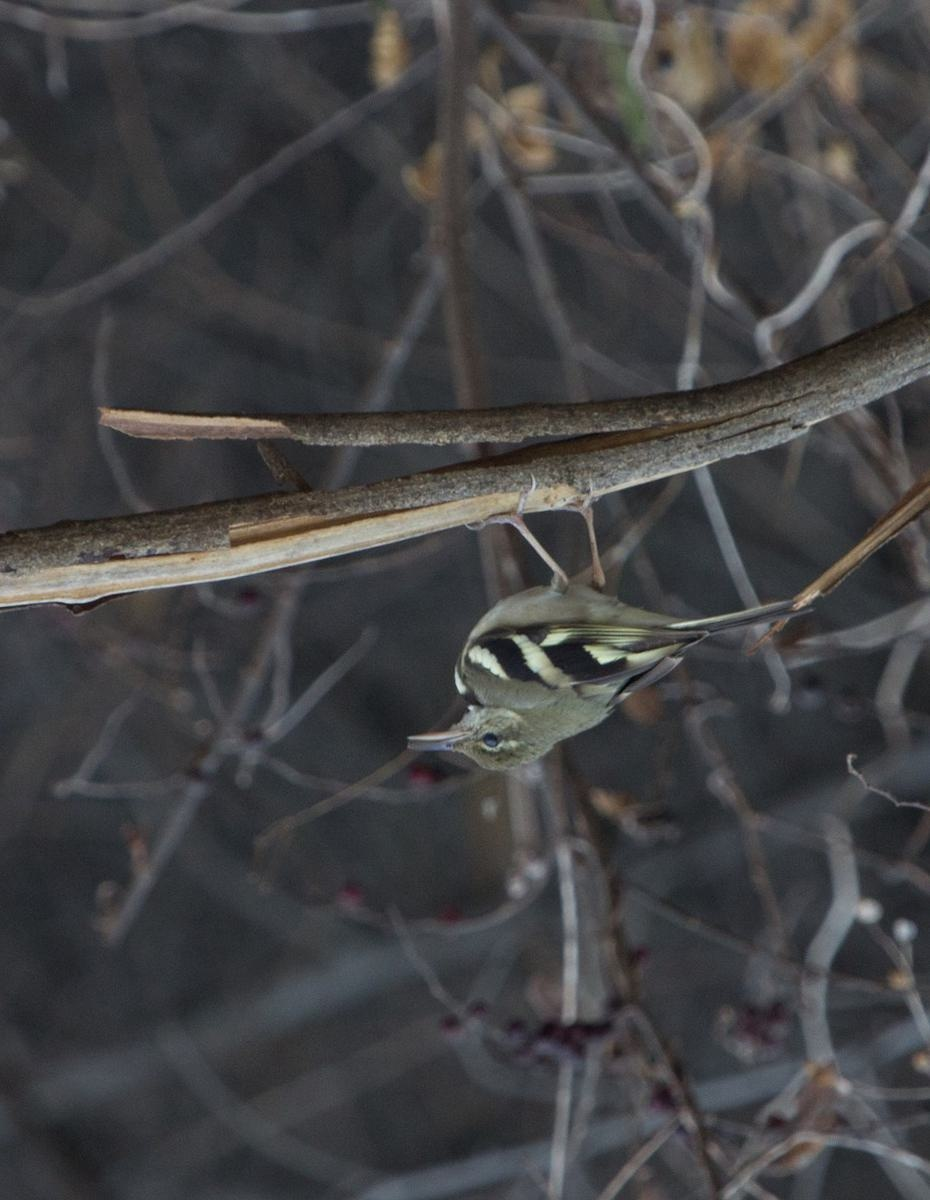wagtail: (385, 485, 745, 791)
